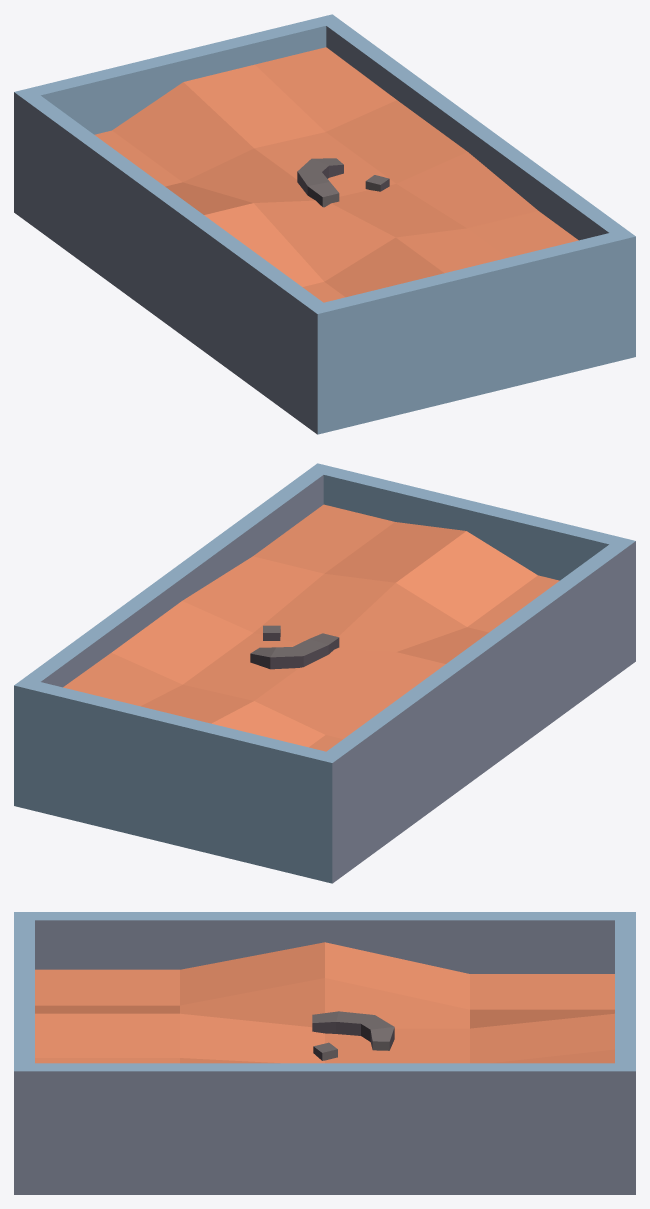
The model's file is Litter Box.fbx.
The picture shows the model from 3 angles, top to bottom: view 1: azimuth 30°, elevation 25°; view 2: azimuth 150°, elevation 25°; view 3: azimuth 270°, elevation 25°; orthographic projection. The views are drawn at different scales.
Visible parts, largest first — view 1: Litter Box; view 2: Litter Box; view 3: Litter Box.
Boxes of the visible parts, x1,y1,x2,y2 form: Litter Box: (14,14,635,434); Litter Box: (14,463,635,883); Litter Box: (14,912,635,1194).
Bounding box in the file's own units: 60.86 × 22.01 × 100.
